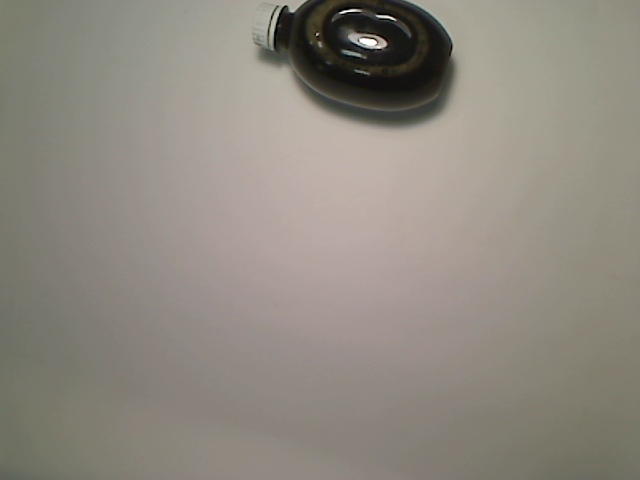plast_bottle: (249, 1, 456, 114)
